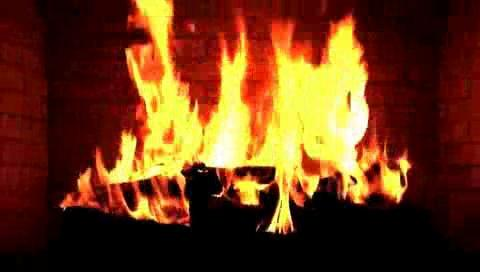fire: (105, 0, 419, 232)
